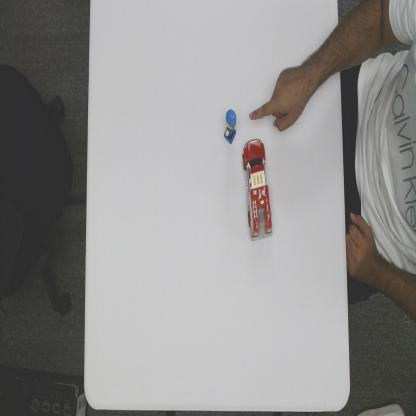Arm: (311, 27, 340, 102)
Firetruck: (242, 138, 273, 242)
Hand: (248, 67, 308, 135)
